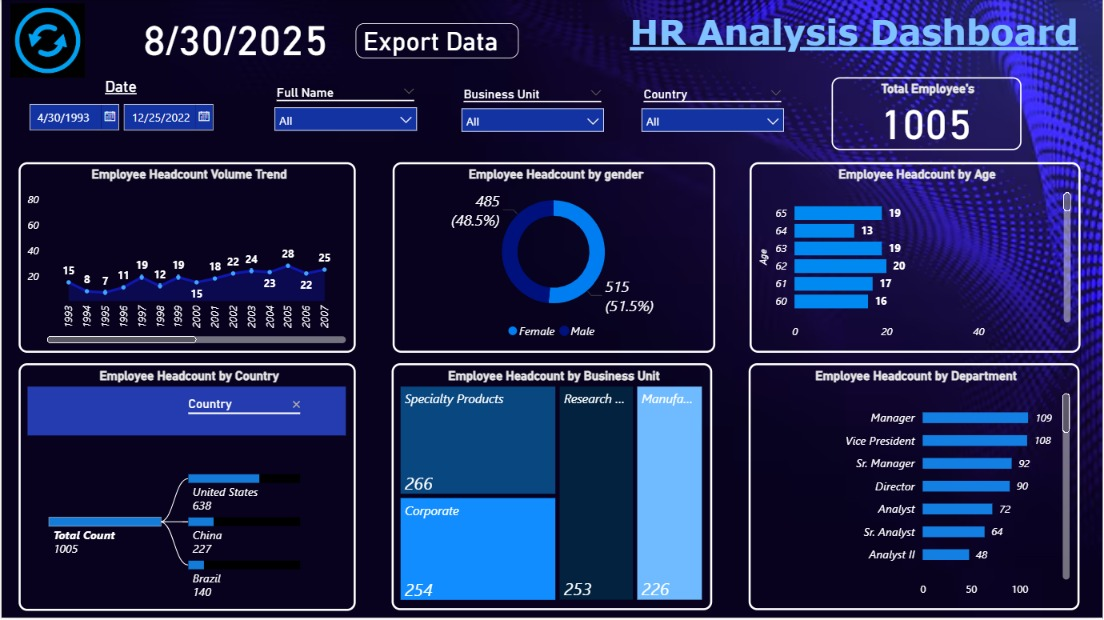

This screenshot's page, from the dashboard's own definition file:
{"tool":"powerbi","page":{"name":"HR Analysis","canvas":[1280,720],"ordinal":1},"visuals":[{"type":"card","title":"Total Employee''s","fields":{"Values":["Employee Data.Total_Count"]},"box":[965.2,90.5,220.8,84.5],"z":0},{"type":"lineChart","title":"Employee Headcount Volume Trend","fields":{"Y":["CountNonNull(Employee Data.Employee ID)"],"Category":["Employee Data.Hire Date.Variation.Date Hierarchy.Year"]},"box":[19.3,189.4,392.1,222],"z":1000},{"type":"donutChart","title":"Employee Headcount by gender","fields":{"Category":["Employee Data.Gender"],"Y":["CountNonNull(Employee Data.Employee ID)"]},"box":[454.8,189.4,375.2,222],"z":2000},{"type":"clusteredBarChart","title":"Employee Headcount by Age","fields":{"Category":["Employee Data.Age"],"Y":["CountNonNull(Employee Data.Employee ID)"]},"box":[869.8,189.4,384.9,222],"z":3000},{"type":"decompositionTreeVisual","title":"Employee Headcount by Country","fields":{"Analyze":["CountNonNull(Employee Data.Country)"],"ExplainBy":["Employee Data.Country"]},"box":[19.3,423.5,392.1,288.3],"z":4000},{"type":"treemap","title":"Employee Headcount by Business Unit","fields":{"Group":["Employee Data.Business Unit"],"Values":["CountNonNull(Employee Data.Employee ID)"]},"box":[453.6,423.5,372.8,287.1],"z":5000},{"type":"clusteredBarChart","title":"Employee Headcount by Department","fields":{"Y":["CountNonNull(Employee Data.Employee ID)"],"Category":["Employee Data.Job Title"]},"box":[868.6,423.5,384.9,287.1],"z":6000},{"type":"shape","box":[676.8,12.1,576.7,54.3],"z":11000},{"type":"slicer","fields":{"Values":["Employee Data.Business Unit"]},"box":[524.8,96.5,185.8,89.3],"z":12000},{"type":"slicer","fields":{"Values":["Employee Data.Country"]},"box":[733.5,96.5,185.8,89.3],"z":13000},{"type":"slicer","fields":{"Values":["Employee Data.Full Name"]},"box":[306.4,95.3,185.8,88.1],"z":14000},{"type":"slicer","title":"Date","fields":{"Values":["Employee Data.Hire Date"]},"box":[19.3,90.5,237.7,97.7],"z":15000},{"type":"card","title":"Total Employee''s","fields":{"Values":["Min(Query1.Date)"]},"box":[133.9,12.1,277.5,62.7],"z":16000},{"type":"image","box":[0,0,107.4,96.5],"z":17000},{"type":"tableEx","title":"Export Data","fields":{"Values":["Employee Data.Country","Sum(Employee Data.Age)","Sum(Employee Data.Annual Salary)","Sum(Employee Data.Bonus %)","Employee Data.Business Unit","Employee Data.City","Employee Data.Employee ID","Employee Data.Department","Employee Data.Ethnicity","Employee Data.Female%","Employee Data.Gender","Employee Data.Full Name"]},"box":[411.4,27.7,189.4,41],"z":18000}]}

Visuals, with their boxes in screenshot pixels (x1, y1, x2, y2), scaled from the page's 1280x720 canvas onto the 1104x620 screenshot:
"Total Employee''s" card: [left=832, top=78, right=1023, bottom=151]
"Employee Headcount Volume Trend" lineChart: [left=17, top=163, right=355, bottom=354]
"Employee Headcount by gender" donutChart: [left=392, top=163, right=716, bottom=354]
"Employee Headcount by Age" clusteredBarChart: [left=750, top=163, right=1082, bottom=354]
"Employee Headcount by Country" decompositionTreeVisual: [left=17, top=365, right=355, bottom=613]
"Employee Headcount by Business Unit" treemap: [left=391, top=365, right=713, bottom=612]
"Employee Headcount by Department" clusteredBarChart: [left=749, top=365, right=1081, bottom=612]
shape: [left=584, top=10, right=1081, bottom=57]
slicer - Employee Data.Business Unit: [left=453, top=83, right=613, bottom=160]
slicer - Employee Data.Country: [left=633, top=83, right=793, bottom=160]
slicer - Employee Data.Full Name: [left=264, top=82, right=425, bottom=158]
"Date" slicer: [left=17, top=78, right=222, bottom=162]
"Total Employee''s" card: [left=115, top=10, right=355, bottom=64]
image: [left=0, top=0, right=93, bottom=83]
"Export Data" tableEx: [left=355, top=24, right=518, bottom=59]
